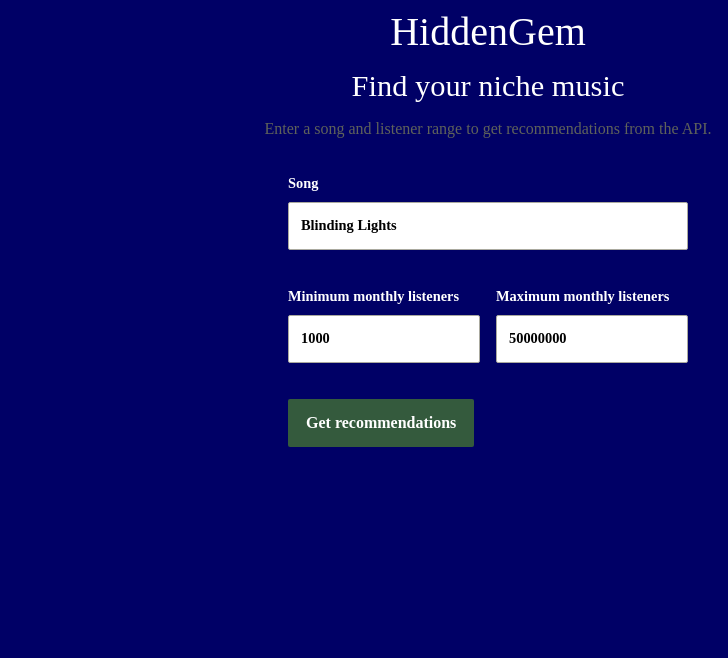
Scenario: App › submits the selected values to the recommendations API and renders the response
The image size is (728, 658).
Replace the text in the field labelled "Song" with "Midnight City" at [488, 226], box [288, 202, 688, 250]
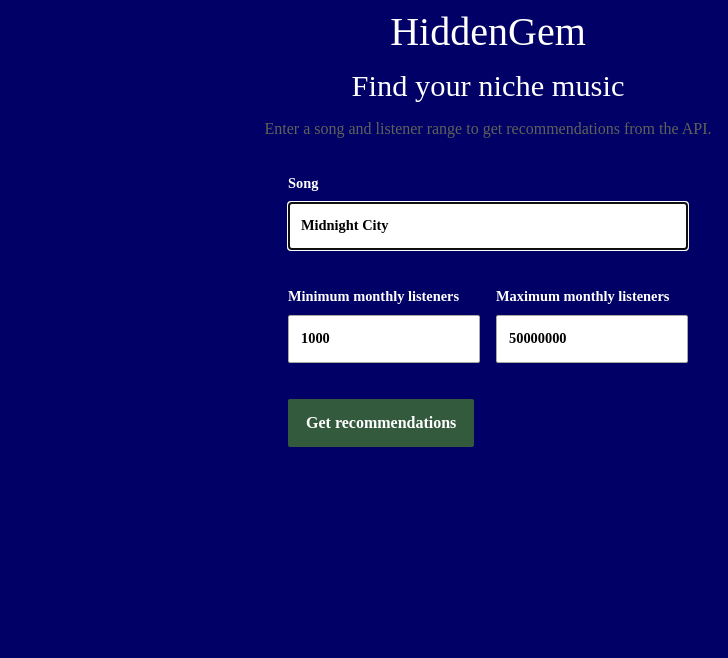
Replace the text in the number field labelled "Minimum monthly listeners" with "25000" at [384, 339], box [288, 315, 480, 363]
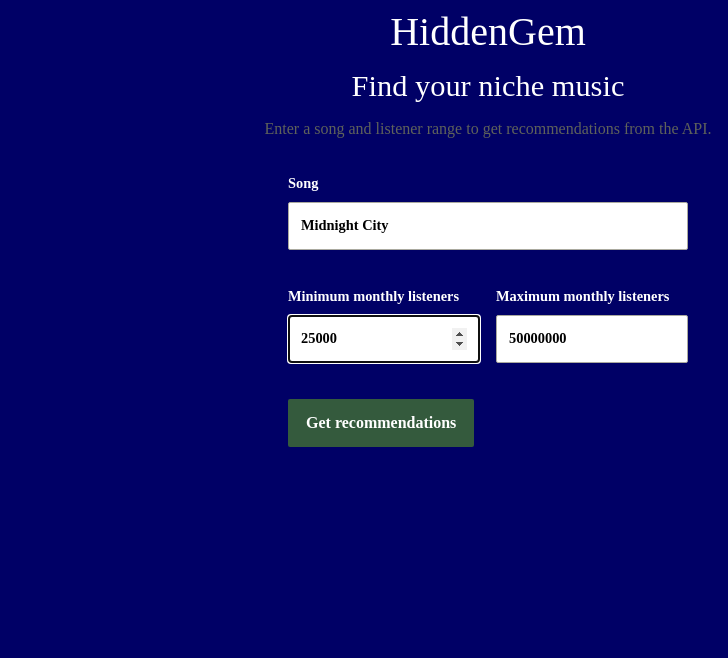
Replace the text in the number field labelled "Maximum monthly listeners" with "2000000" at [592, 339], box [496, 315, 688, 363]
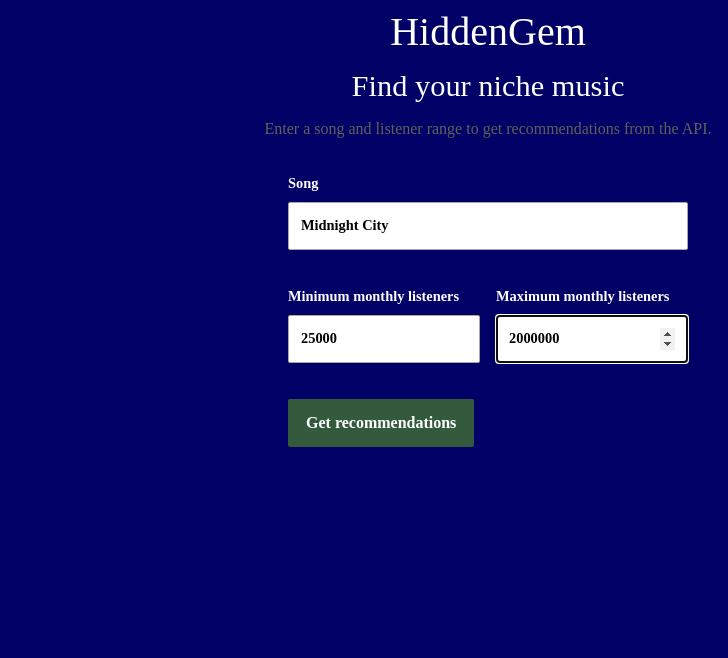
Click the button "Get recommendations" at [381, 423], box [288, 399, 474, 447]
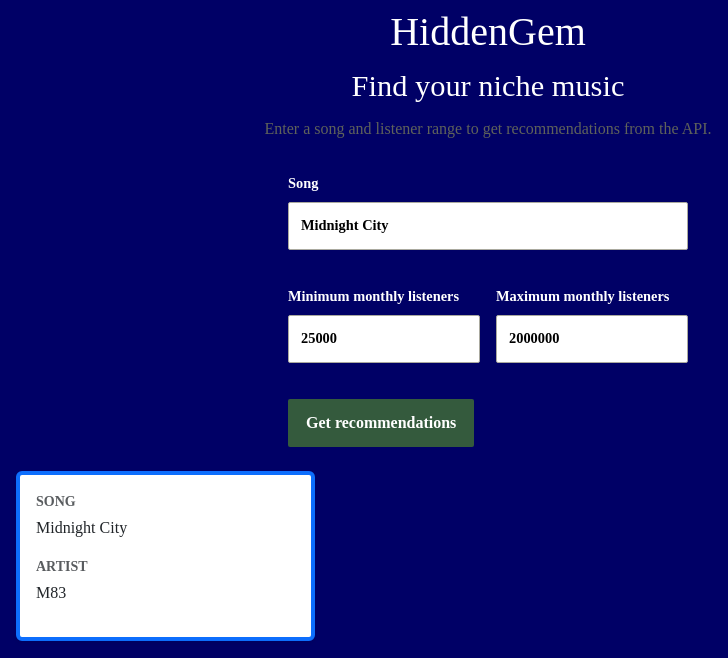
Expected: the text "Midnight City" is shown, [36, 519, 127, 536]
Expected: the text "M83" is shown, [36, 584, 66, 601]
